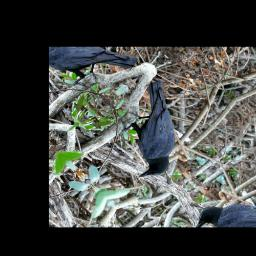Crow: (87, 76, 217, 186)
